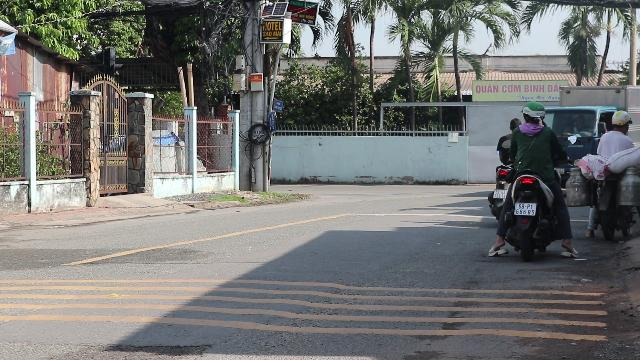helmet: (522, 101, 546, 125), (610, 110, 630, 132)
licenseplate: (514, 201, 536, 214), (493, 190, 507, 198)
motorcyclist: (490, 100, 572, 260), (589, 110, 639, 240)
